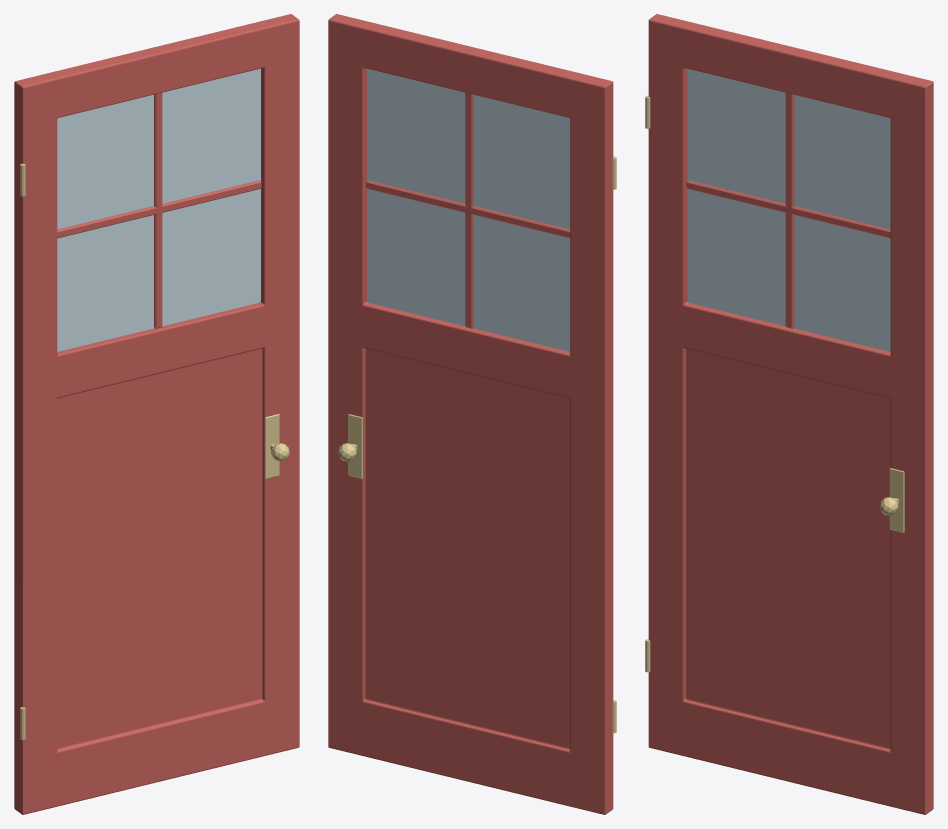
The model's file is door_leaf_front.glb.
3 views of the same model, side by side, from view 1: azimuth 30°, elevation 25°; view 2: azimuth 150°, elevation 25°; view 3: azimuth 330°, elevation 25° (orthographic).
Parts seen in each view (by area): view 1: door_leaf_front_door, door_leaf_front_glass, door_leaf_front_brass; view 2: door_leaf_front_door, door_leaf_front_glass, door_leaf_front_brass; view 3: door_leaf_front_door, door_leaf_front_glass, door_leaf_front_brass.
Boxes of the visible parts, x1=… form: door_leaf_front_door: x1=14, y1=14, x2=299, y2=814; door_leaf_front_glass: x1=57, y1=68, x2=260, y2=351; door_leaf_front_brass: x1=20, y1=163, x2=289, y2=739; door_leaf_front_door: x1=328, y1=14, x2=613, y2=814; door_leaf_front_glass: x1=367, y1=68, x2=570, y2=351; door_leaf_front_brass: x1=338, y1=156, x2=616, y2=733; door_leaf_front_door: x1=648, y1=14, x2=933, y2=814; door_leaf_front_glass: x1=687, y1=68, x2=890, y2=351; door_leaf_front_brass: x1=645, y1=95, x2=904, y2=672.
Bounding box in the file's own units: 0.948 × 2.36 × 0.206.
